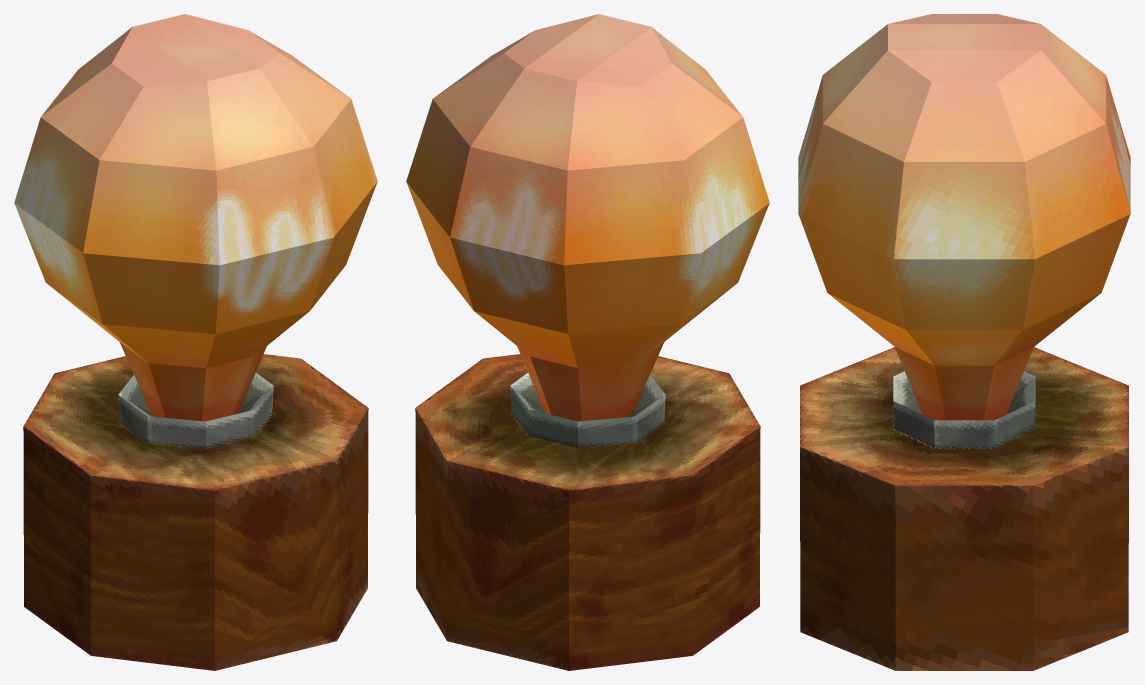
File: item_steampunk_lightbulb.glb
3 renders of one model, left to right at view 1: azimuth 30°, elevation 25°; view 2: azimuth 150°, elevation 25°; view 3: azimuth 270°, elevation 25°, orthographic. The views are drawn at different scales.
Visible parts, largest first — view 1: steampunkLightbulb; view 2: steampunkLightbulb; view 3: steampunkLightbulb.
Part boxes in pixels (left/top/right/bottom): steampunkLightbulb: left=14, top=14, right=377, bottom=670; steampunkLightbulb: left=406, top=14, right=769, bottom=670; steampunkLightbulb: left=798, top=14, right=1130, bottom=670.
Size of the model in its own units: 0.3049 by 0.5436 by 0.2898.
1 material, 1 textured.
